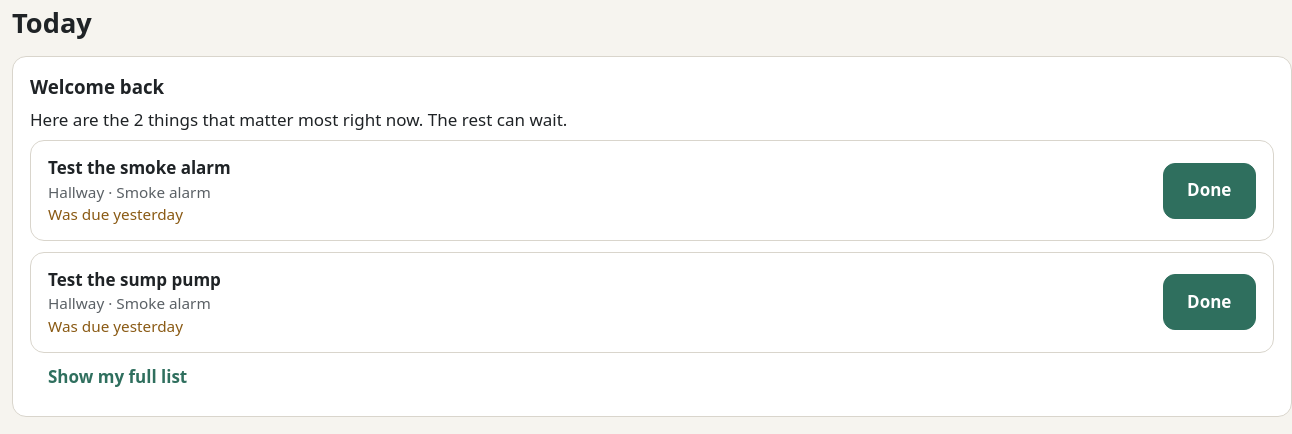
Test: Today › after a lapse shows welcome back with the top few, not an overdue count (P10)
Expected: the heading "Welcome back" is shown, [30,74,164,99]
Expected: the text "the 2 things" is shown, [30,108,567,131]
Click the button "Show my full list" at (118, 377), box [30,353,205,401]
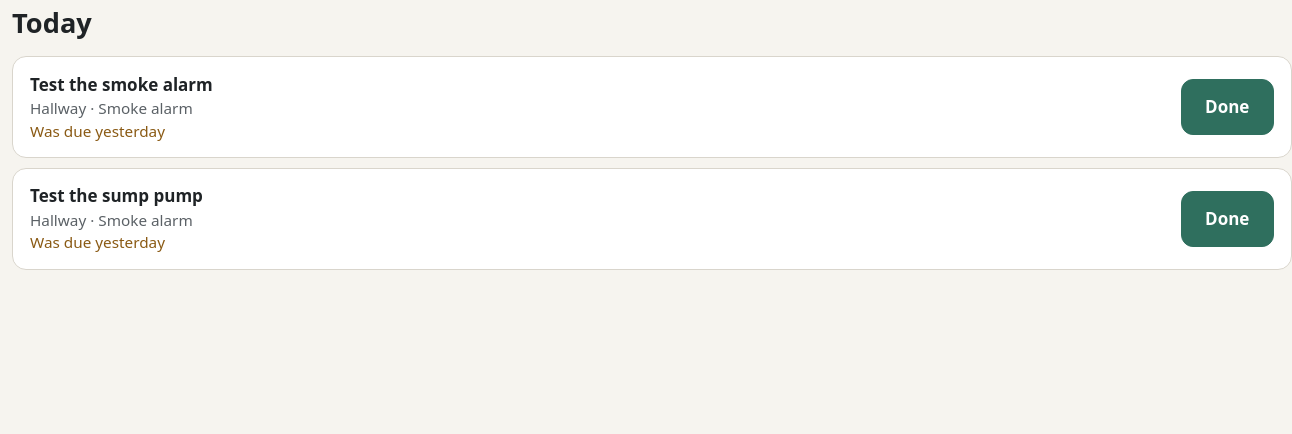
Expected: the list named "Due now and soon" is shown, [12,56,1291,270]
